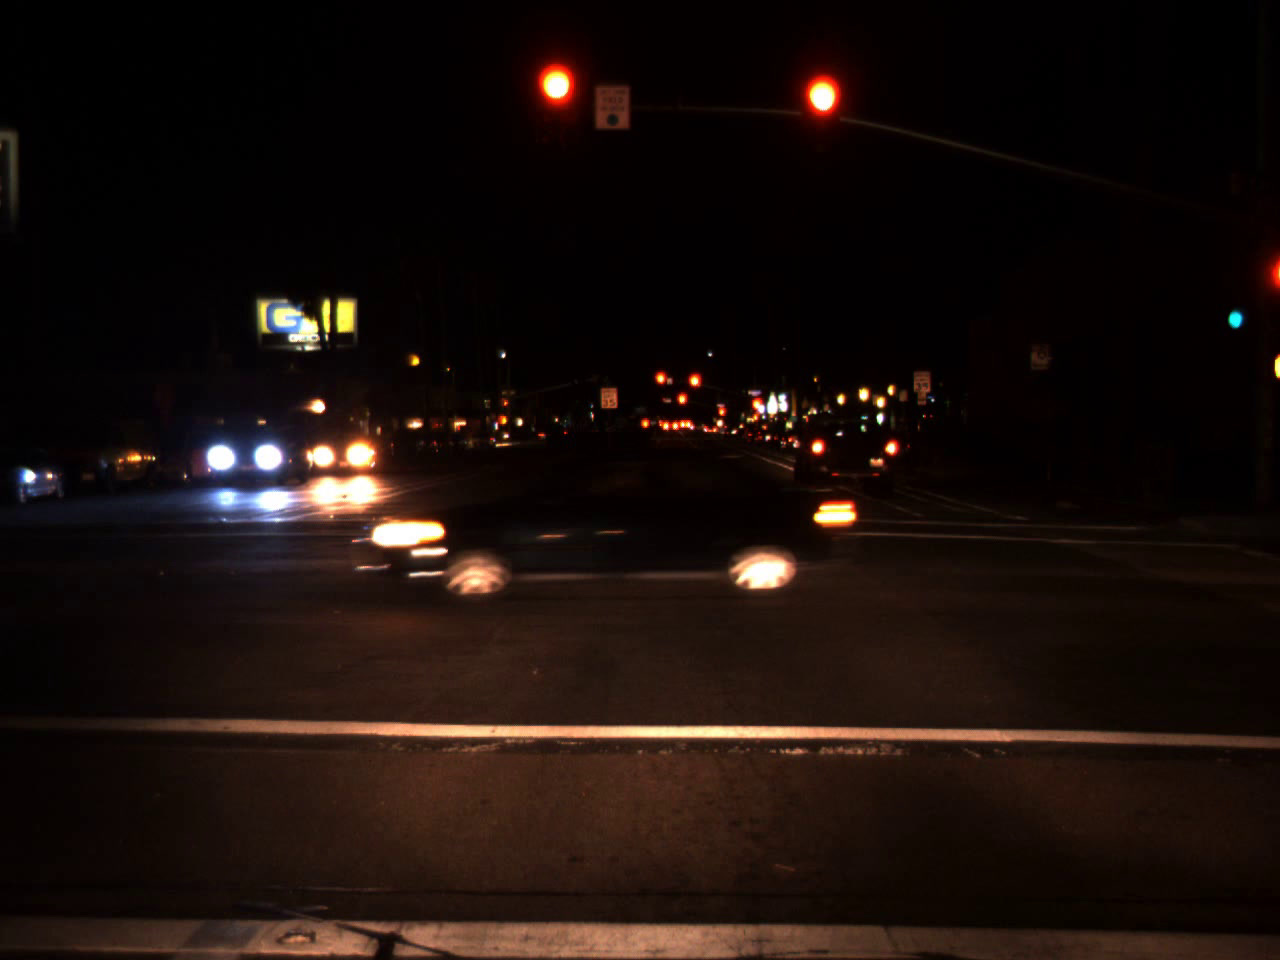stop: (536, 64, 577, 142), (802, 77, 841, 152), (686, 371, 703, 403), (750, 394, 763, 429), (653, 370, 666, 399), (675, 391, 688, 418), (717, 403, 727, 430), (503, 398, 509, 414)
